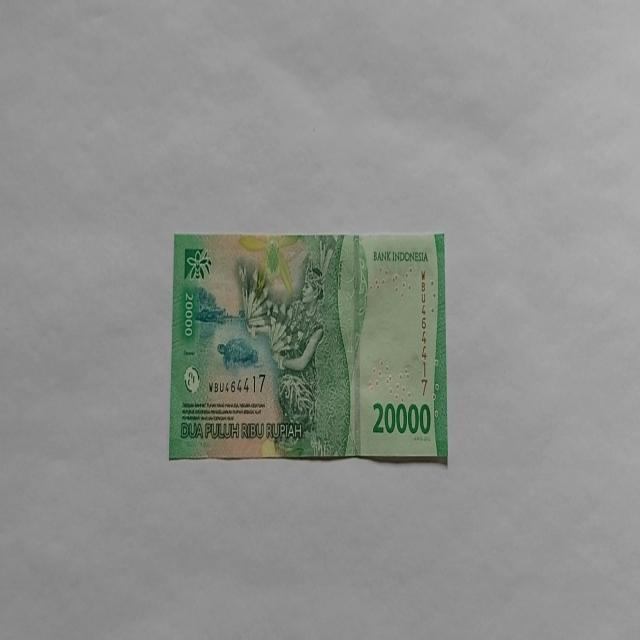dua puluh ribu rupiah: (168, 230, 448, 465)
